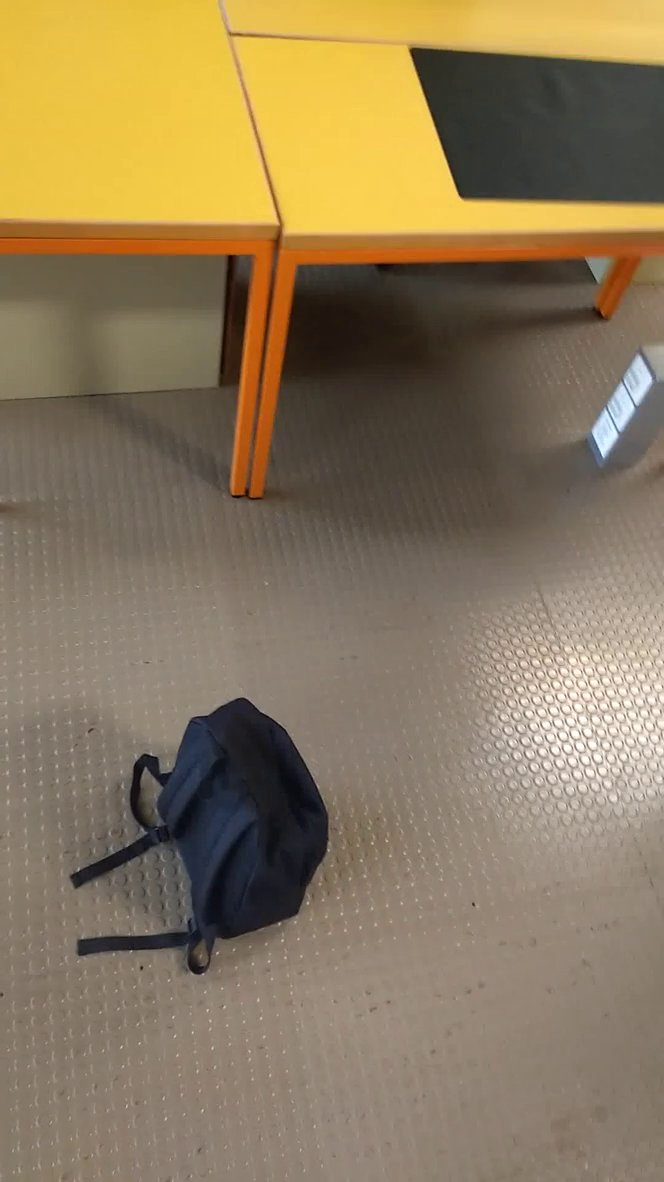bag: (65, 690, 365, 992)
